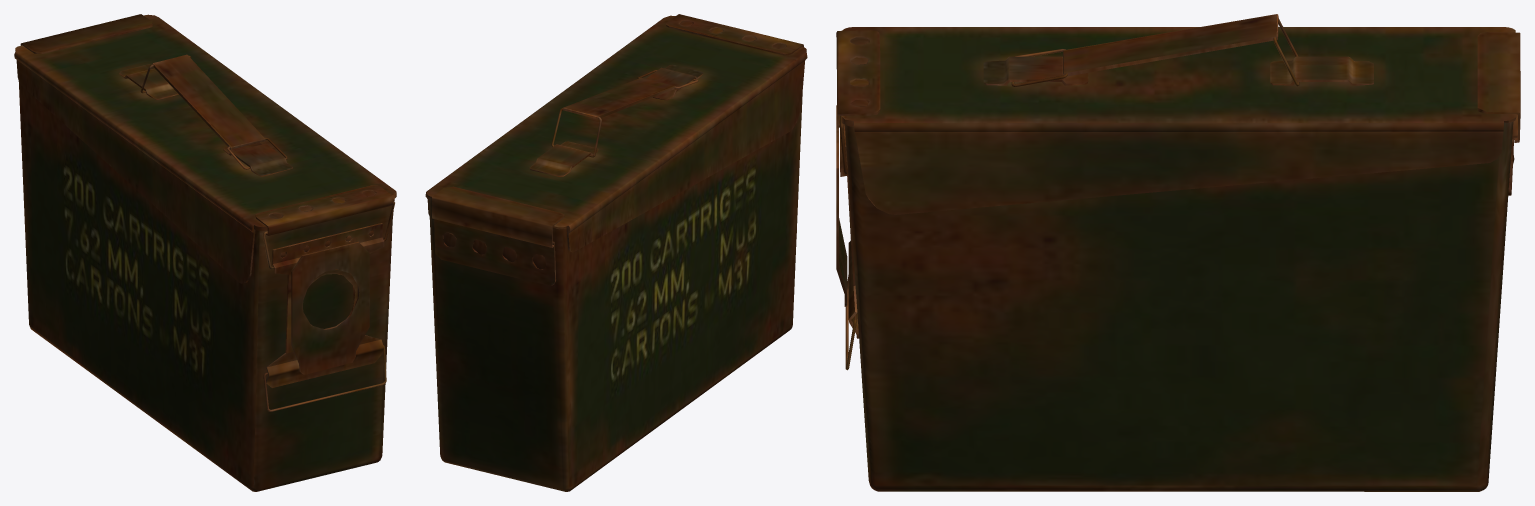
Rendered from ammo_box.glb.
The picture shows the model from 3 angles, left to right: view 1: azimuth 30°, elevation 25°; view 2: azimuth 150°, elevation 25°; view 3: azimuth 270°, elevation 25°; orthographic projection. The views are drawn at different scales.
Visible parts, largest first — view 1: ammo_box, ammo_box_handle, ammo_box_latch; view 2: ammo_box, ammo_box_handle; view 3: ammo_box, ammo_box_handle.
Boxes of the visible parts, x1=… form: ammo_box: x1=14, y1=14, x2=396, y2=491; ammo_box_handle: x1=152, y1=54, x2=265, y2=149; ammo_box_latch: x1=263, y1=345, x2=386, y2=411; ammo_box: x1=425, y1=14, x2=807, y2=491; ammo_box_handle: x1=563, y1=77, x2=675, y2=119; ammo_box: x1=836, y1=27, x2=1520, y2=491; ammo_box_handle: x1=1063, y1=14, x2=1278, y2=76.
Bounding box in the file's own units: 0.0865 × 0.1773 × 0.2579.
1 material, 1 textured.
